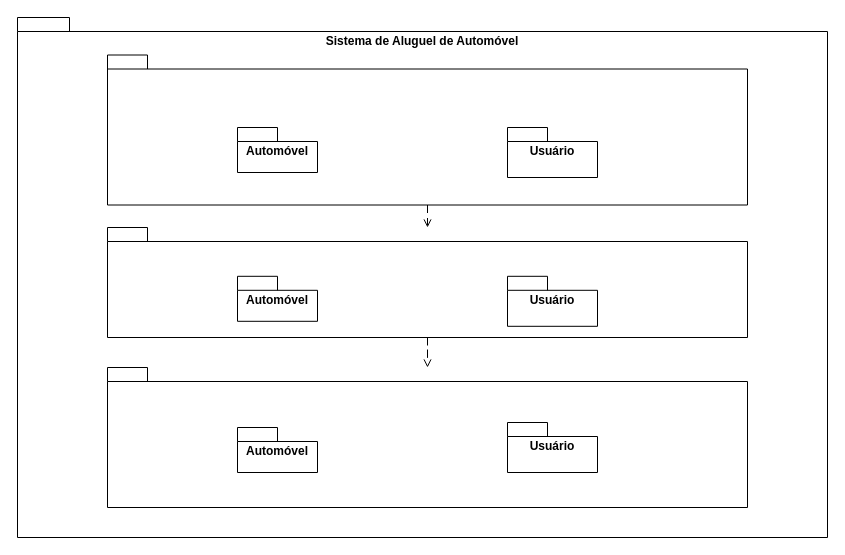
This 845x555 diagram has some shape labels left out. The box of each missing label's shape, as (x1, y1, x2, y2) in pixels:
<<layer>> Apresentação: (106, 366, 748, 508)
<<layer>> Controle: (106, 226, 748, 338)
<<layer>> Modelo: (106, 54, 748, 205)
